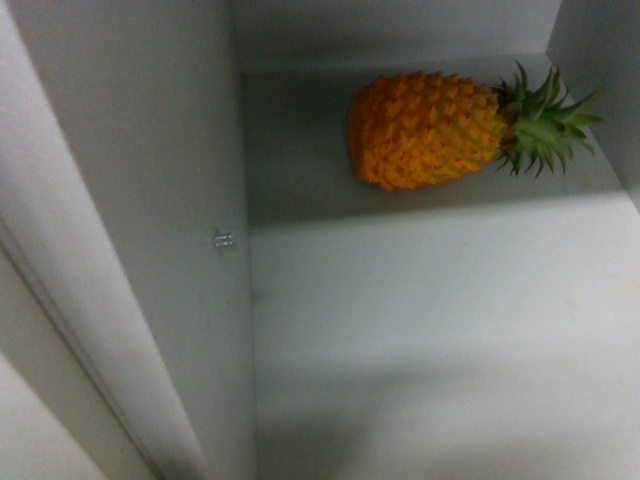pineapple: (348, 63, 599, 191)
